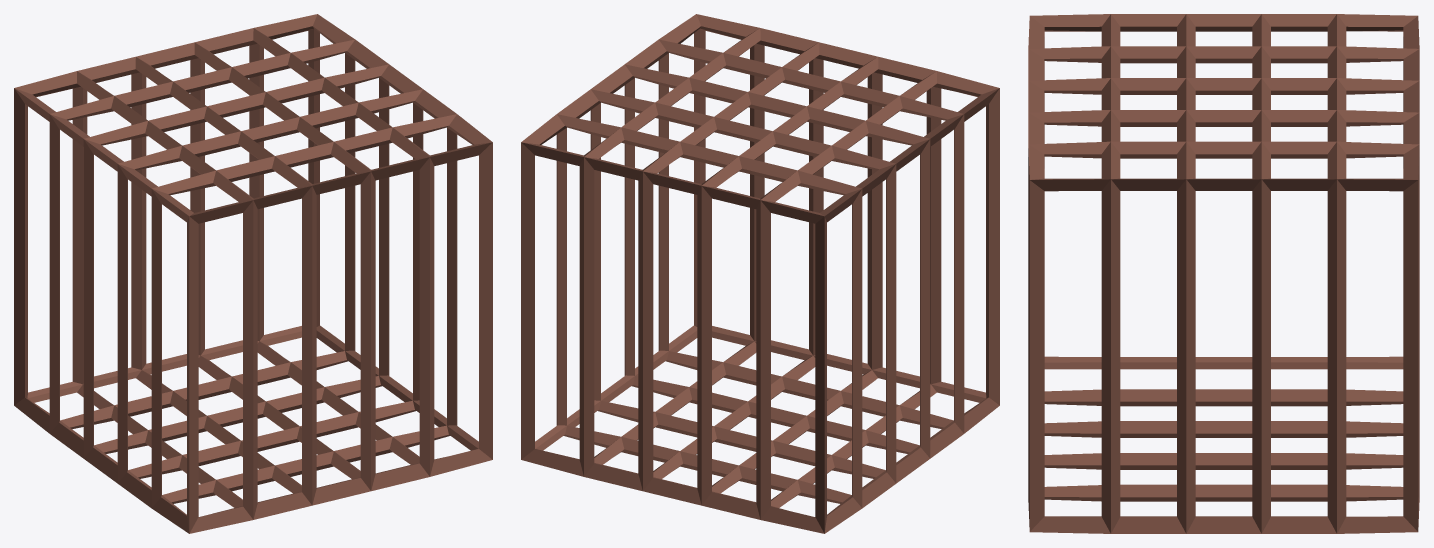
The model's file is Cage.glb.
3 views of the same model, side by side, from view 1: azimuth 30°, elevation 25°; view 2: azimuth 150°, elevation 25°; view 3: azimuth 270°, elevation 25° (orthographic). The views are drawn at different scales.
Visible parts, largest first — view 1: Cage; view 2: Cage; view 3: Cage.
Part boxes in pixels (x1,y1,x2,y2): Cage: (14,14,492,533); Cage: (521,14,999,533); Cage: (1028,14,1419,533).
Size of what is drawn, in the model's own units: 2.7 by 2.74 by 2.7.
